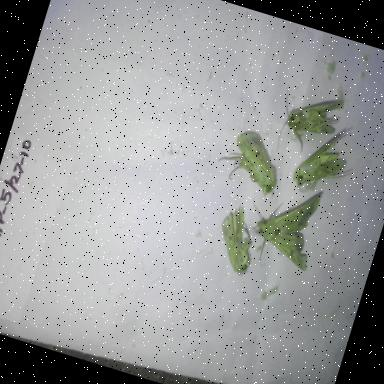abw: (236, 174, 332, 278), (266, 68, 355, 166), (282, 116, 370, 210), (208, 117, 294, 207), (200, 193, 272, 280)
